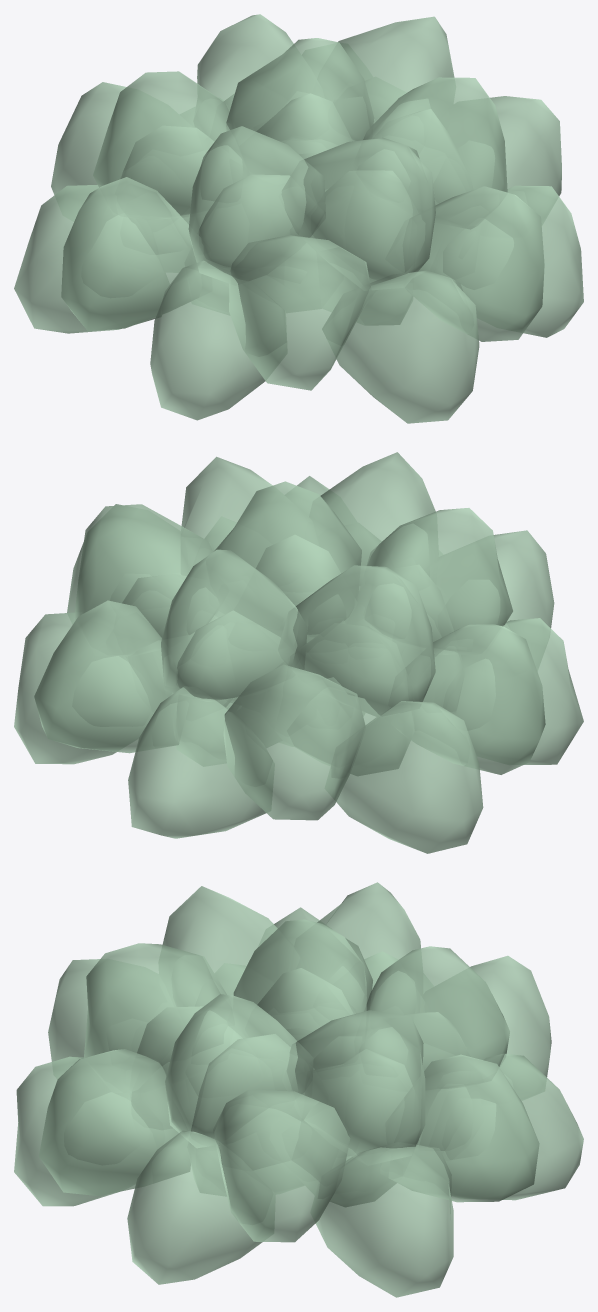
File: 姬玉露.glb
The picture shows the model from 3 angles, top to bottom: view 1: azimuth 30°, elevation 25°; view 2: azimuth 150°, elevation 25°; view 3: azimuth 270°, elevation 25°; orthographic projection.
Parts seen in each view (by area): view 1: stage3, stage2; view 2: stage3, stage2; view 3: stage3, stage2.
Boxes of the visible parts, <box> form: stage3: <box>14,14,583,423</box>; stage2: <box>121,77,473,325</box>; stage3: <box>14,452,583,853</box>; stage2: <box>122,516,462,775</box>; stage3: <box>14,882,583,1297</box>; stage2: <box>131,951,470,1206</box>.
Bounding box in the file's own units: 1.21 × 0.6901 × 1.24.
